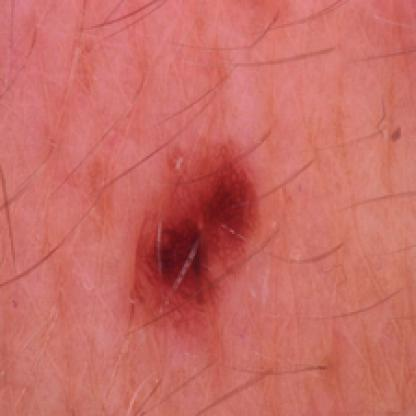benign: (132, 152, 271, 322)
